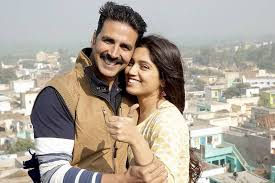Bad: (30, 2, 201, 183)
